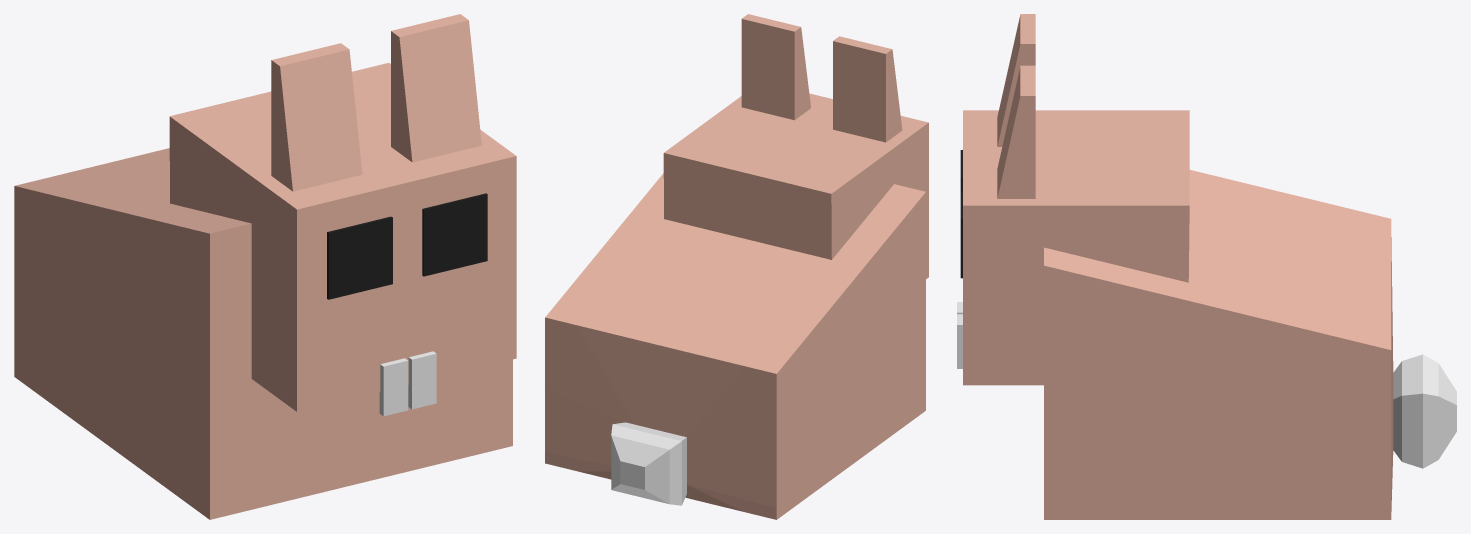
Rendered from bunny_female.glb.
The picture shows the model from 3 angles, left to right: view 1: azimuth 30°, elevation 25°; view 2: azimuth 150°, elevation 25°; view 3: azimuth 270°, elevation 25°; orthographic projection. The views are drawn at different scales.
Visible parts, largest first — view 1: bunny_female; view 2: bunny_female; view 3: bunny_female.
Part boxes in pixels (box(x1,y1,x2,y2)): bunny_female: box(14, 14, 516, 519); bunny_female: box(545, 14, 928, 519); bunny_female: box(957, 14, 1456, 519).
Size of the model in its own units: 21.9 by 31.03 by 35.19.
Materials: 1 (1 with a texture image).
